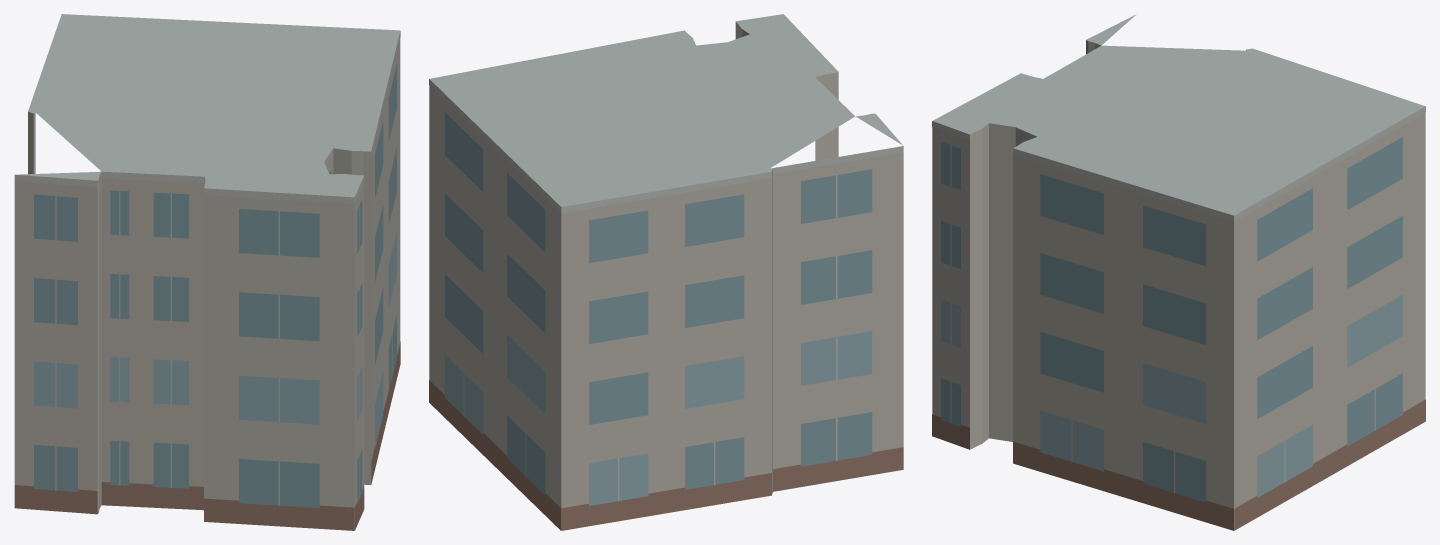
File: survey-upis-32892546.glb
3 views of the same model, side by side, from view 1: azimuth 30°, elevation 25°; view 2: azimuth 150°, elevation 25°; view 3: azimuth 270°, elevation 25° (orthographic). The views are drawn at different scales.
Parts seen in each view (by area): view 1: survey-upis-32892546.tmp; view 2: survey-upis-32892546.tmp; view 3: survey-upis-32892546.tmp.
Part boxes in pixels (x1,y1,x2,y2): survey-upis-32892546.tmp: [14, 14, 400, 530]; survey-upis-32892546.tmp: [429, 14, 903, 530]; survey-upis-32892546.tmp: [932, 14, 1425, 530].
Bounding box in the file's own units: 16.89 × 12.3 × 17.46.
